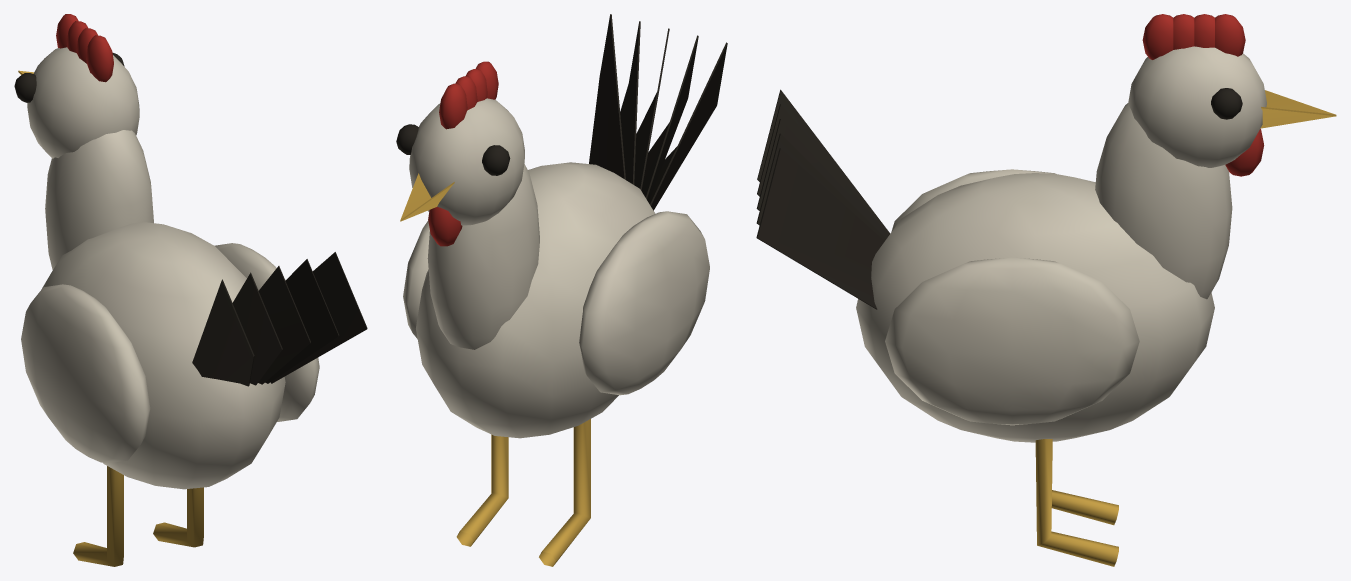
File: chicken.glb
The picture shows the model from 3 angles, left to right: view 1: azimuth 30°, elevation 25°; view 2: azimuth 150°, elevation 25°; view 3: azimuth 270°, elevation 25°; orthographic projection. The views are drawn at different scales.
Parts seen in each view (by area): view 1: bird torso, folded wing, eye, folded wing.001, foot, comb, foot.001; view 2: bird torso, folded wing, eye, comb, foot, foot.001, folded wing.001, beak; view 3: bird torso, folded wing.001, eye, comb, foot.001, beak, foot, folded wing.
Boxes of the visible parts, x1=… form: bird torso: x1=27, y1=47, x2=285, y2=489; folded wing: x1=21, y1=284, x2=150, y2=463; eye: x1=14, y1=53, x2=367, y2=386; folded wing.001: x1=214, y1=243, x2=319, y2=421; foot: x1=73, y1=466, x2=123, y2=566; comb: x1=56, y1=14, x2=113, y2=82; foot.001: x1=153, y1=487, x2=203, y2=547; bird torso: x1=409, y1=98, x2=655, y2=438; folded wing: x1=579, y1=211, x2=709, y2=395; eye: x1=396, y1=14, x2=727, y2=210; comb: x1=428, y1=61, x2=498, y2=246; foot: x1=539, y1=419, x2=590, y2=566; foot.001: x1=456, y1=434, x2=508, y2=546; folded wing.001: x1=403, y1=220, x2=429, y2=338; beak: x1=400, y1=173, x2=454, y2=221; bird torso: x1=856, y1=46, x2=1266, y2=442; folded wing.001: x1=885, y1=257, x2=1139, y2=425; eye: x1=756, y1=88, x2=1242, y2=309; comb: x1=1142, y1=14, x2=1264, y2=176; foot.001: x1=1035, y1=439, x2=1118, y2=566; beak: x1=1260, y1=90, x2=1336, y2=128; foot: x1=1051, y1=490, x2=1118, y2=525; folded wing: x1=891, y1=169, x2=1055, y2=231.
Size of the model in its own units: 0.47 by 1.01 by 1.
